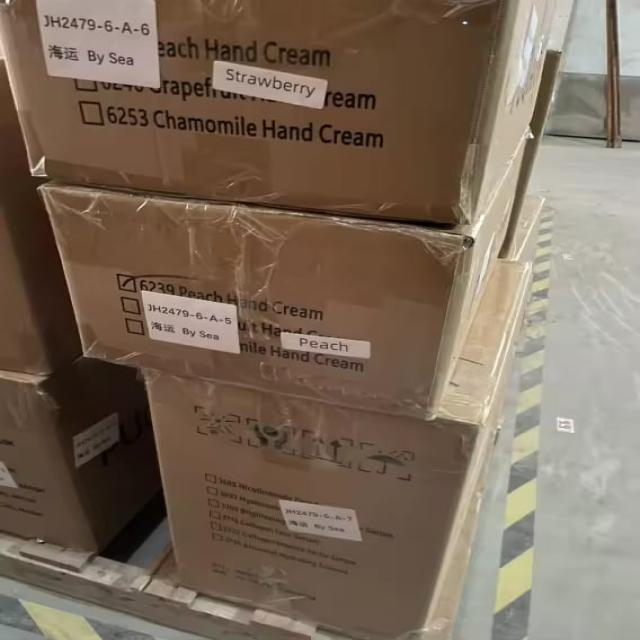carton_box: (107, 274, 570, 640), (19, 163, 554, 431), (0, 0, 566, 231)
export_mark_label: (28, 0, 167, 91), (124, 284, 261, 366), (275, 491, 376, 546)
handle_with_care_label: (238, 409, 301, 462)
keep_dry_label: (362, 438, 425, 492)
protect_from_heat_label: (185, 396, 239, 447)
this_side_up_label: (303, 422, 355, 469)
